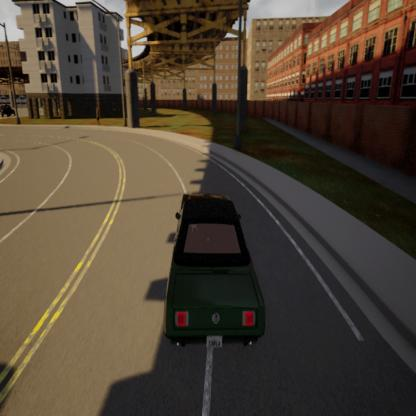Cars: (155, 185, 276, 364)
Pedestrian: (92, 104, 106, 139)
